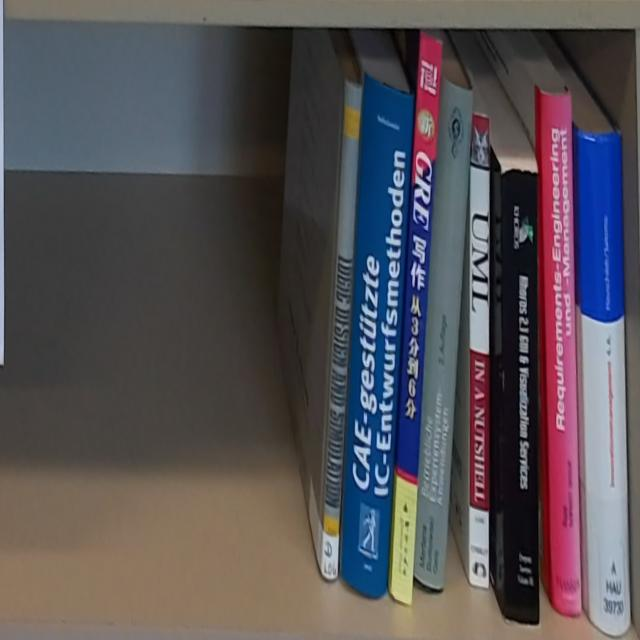Book Spine: (341, 72, 415, 597), (414, 76, 474, 593), (390, 32, 443, 610), (579, 130, 631, 636), (541, 89, 582, 618), (322, 81, 362, 582), (503, 171, 539, 631), (470, 113, 490, 595)
